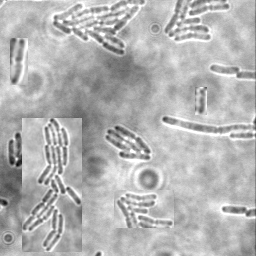Dividing: (161, 114, 255, 133), (10, 38, 28, 85), (221, 204, 248, 215)
Microcolony: (22, 118, 82, 252), (51, 1, 147, 56), (162, 1, 231, 44), (114, 190, 174, 228), (106, 124, 153, 160), (208, 63, 240, 74)
Rod: (195, 87, 207, 115)
